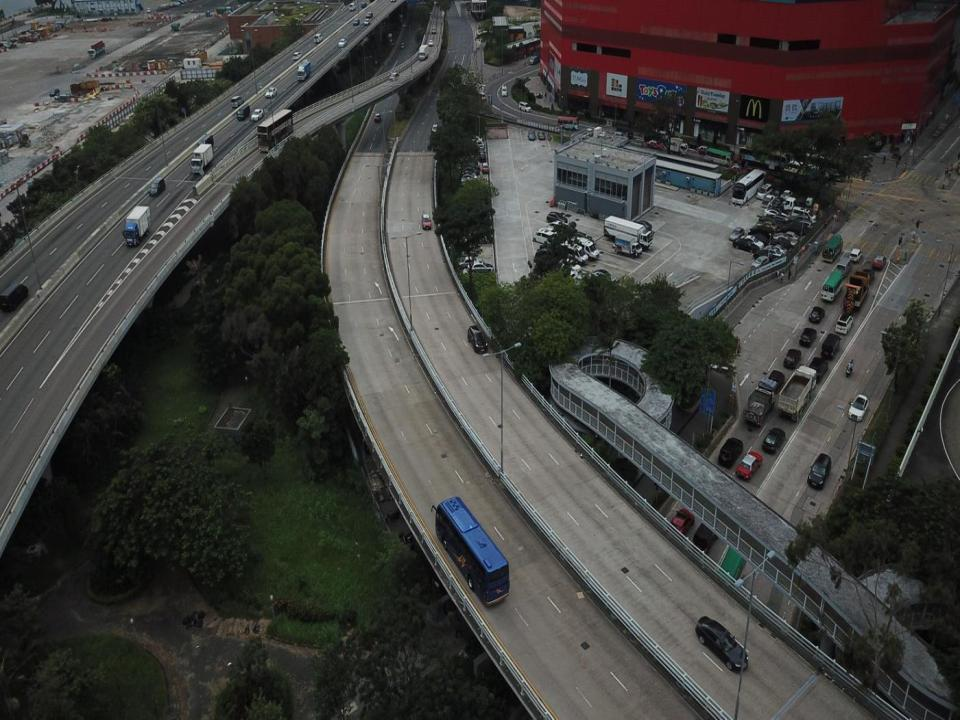bus: (429, 495, 512, 607), (257, 107, 296, 152), (728, 166, 768, 207), (821, 264, 845, 302), (704, 146, 736, 170), (557, 111, 581, 130)
car: (694, 617, 747, 675), (711, 530, 754, 600), (684, 509, 720, 573), (662, 504, 695, 552), (806, 451, 832, 491), (448, 241, 484, 267), (530, 223, 562, 250), (572, 232, 599, 261), (560, 237, 587, 266), (737, 451, 765, 477), (720, 435, 744, 465), (466, 324, 489, 354), (807, 351, 827, 384), (848, 391, 868, 422), (546, 209, 572, 231), (823, 334, 843, 361), (467, 261, 497, 279), (762, 428, 784, 451), (833, 310, 854, 334), (798, 324, 818, 348), (781, 348, 802, 370), (643, 135, 667, 154), (806, 304, 826, 324), (455, 254, 479, 270), (147, 175, 166, 195), (871, 250, 888, 272), (728, 228, 745, 243), (420, 212, 432, 231), (248, 108, 265, 120), (849, 245, 860, 263), (518, 97, 530, 113), (387, 72, 400, 85), (264, 86, 278, 98), (529, 52, 539, 68), (429, 122, 438, 137), (537, 130, 546, 142), (373, 108, 381, 121), (529, 129, 537, 142), (500, 84, 507, 97), (338, 38, 346, 48), (365, 10, 375, 17), (352, 17, 358, 25), (364, 19, 370, 26)
truck: (777, 364, 817, 422), (743, 376, 778, 428), (604, 215, 654, 250), (842, 270, 871, 314), (121, 206, 151, 246), (187, 143, 214, 177), (614, 234, 642, 258), (296, 60, 312, 80), (418, 44, 430, 61)
van: (0, 282, 29, 312), (196, 132, 219, 158), (838, 253, 852, 278), (236, 103, 252, 122), (230, 95, 245, 106), (313, 32, 323, 43)
